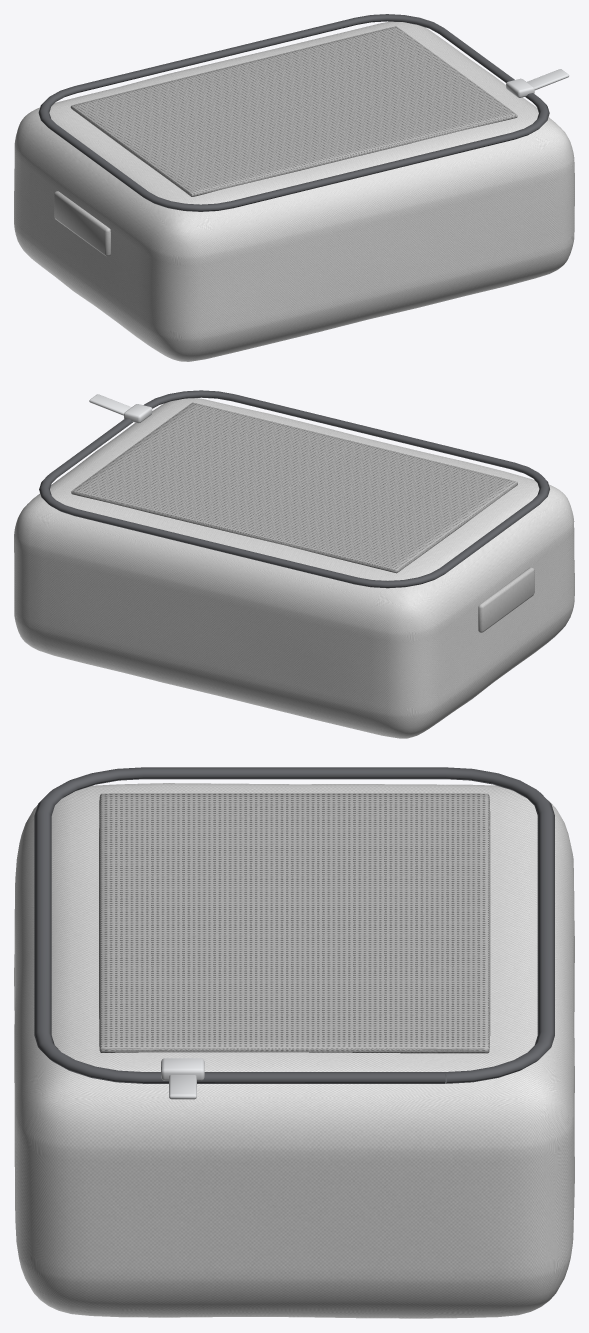
File: packing_cube.glb
The picture shows the model from 3 angles, top to bottom: view 1: azimuth 30°, elevation 25°; view 2: azimuth 150°, elevation 25°; view 3: azimuth 270°, elevation 25°; orthographic projection. The views are drawn at different scales.
Visible parts, largest first — view 1: cube_body, cube_window, cube_zip, cube_handle; view 2: cube_body, cube_window, cube_zip, cube_handle; view 3: cube_body, cube_window, cube_zip, cube_slider, cube_pull.
Boxes of the visible parts, box(x1,y1,x2,y2) form: cube_body: box(14, 21, 574, 361); cube_window: box(70, 26, 517, 196); cube_zip: box(38, 14, 549, 211); cube_handle: box(54, 191, 110, 256); cube_body: box(14, 398, 574, 738); cube_window: box(71, 402, 517, 573); cube_zip: box(39, 390, 549, 588); cube_handle: box(478, 567, 534, 632); cube_body: box(14, 783, 574, 1318); cube_window: box(99, 793, 490, 1053); cube_zip: box(34, 767, 554, 1083); cube_slider: box(161, 1058, 204, 1080); cube_pull: box(169, 1075, 196, 1099).
Bounding box in the file's own units: 26.86 × 9.52 × 18.05.
5 materials, 3 textured.
